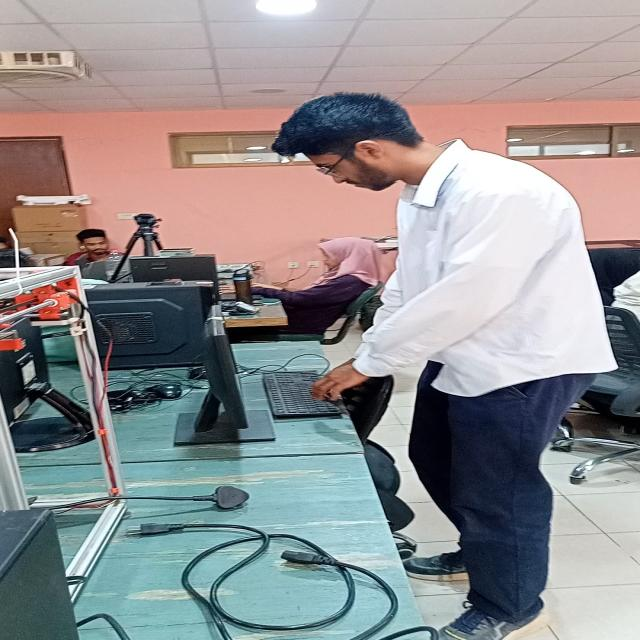dress: (350, 135, 619, 606)
